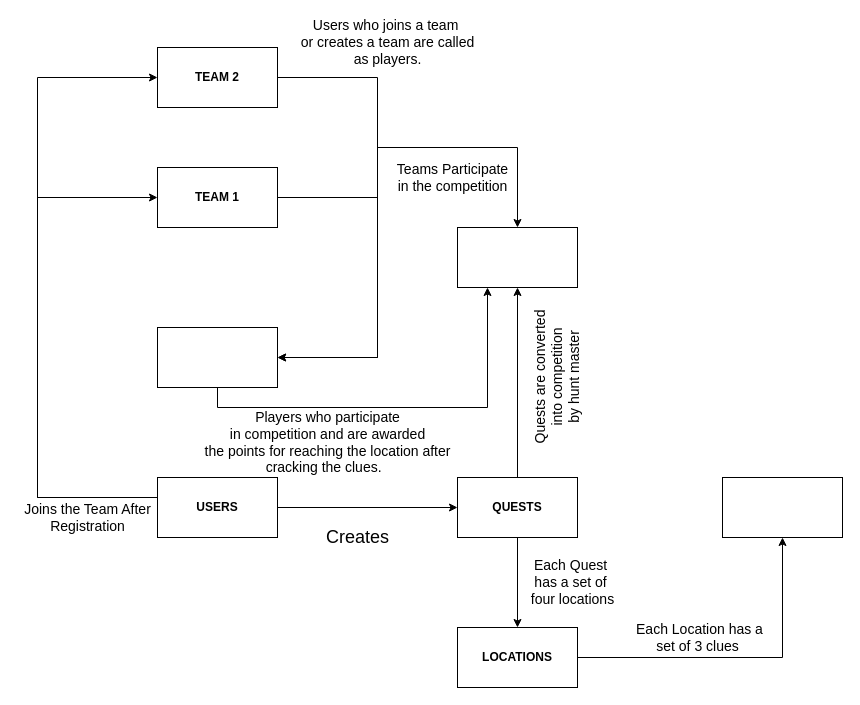
This 860x705 diagram has some shape labels left out. The box of each missing label's shape, as (x1, y1, x2, y2) in pixels:
CLUES: (722, 476, 842, 538)
COMPETITION: (456, 226, 578, 288)
PLAYERS: (156, 326, 278, 388)
